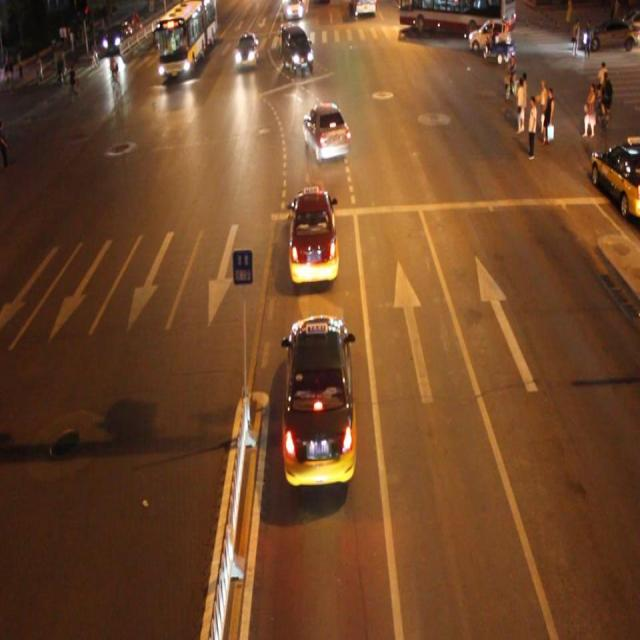car: (282, 314, 356, 484), (287, 188, 339, 284), (304, 102, 349, 161), (280, 28, 314, 75), (233, 32, 259, 70)
van: (157, 1, 216, 80)
